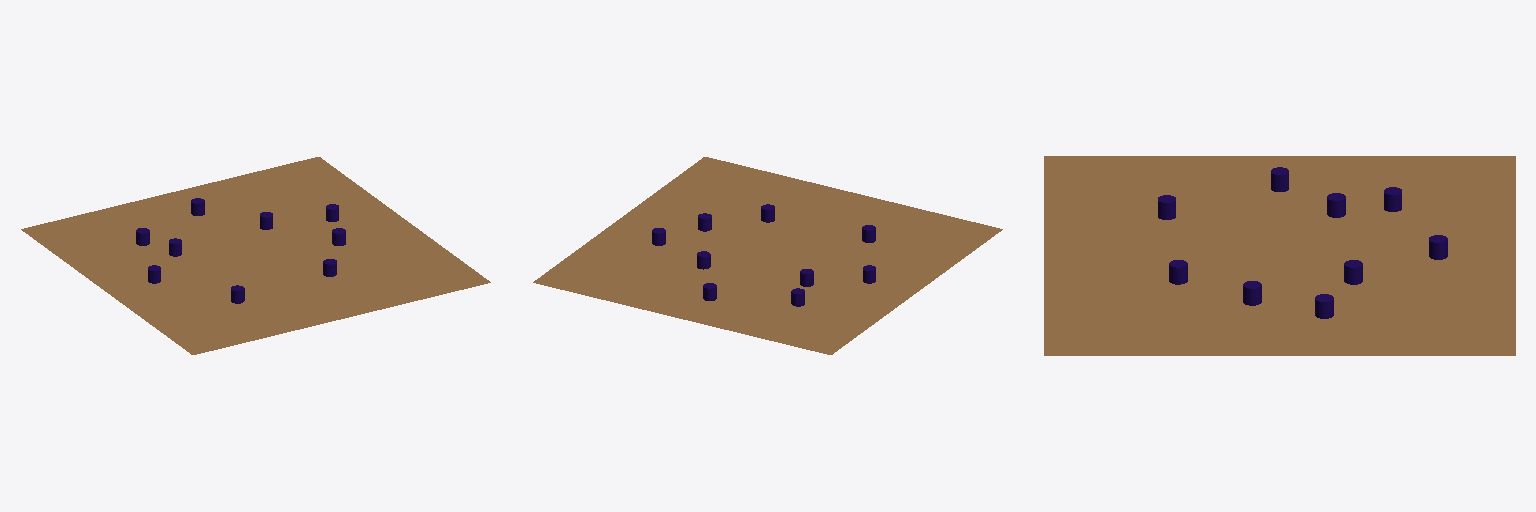
URDF robot description (Mesh):
<?xml version="1.0"?>
<robot name="Mesh">
  <link name="world">
		<visual>
			<origin xyz="0 0 0" rpy="0 0 0"/>
			<geometry>
				<mesh filename="package://gcop_ros_bullet/urdf/meshes/simple_obstacles.dae"/>
			</geometry>
		</visual>
	</link>
</robot>

--- What the picture shows (computed from the rendered views, not written in the file) ---
The picture shows the robot from 3 angles, left to right: view 1: azimuth 30°, elevation 25°; view 2: azimuth 150°, elevation 25°; view 3: azimuth 270°, elevation 25°; orthographic projection.
Robot: Mesh — 1 links, 0 joints (none); root link world; default pose: all joints at 0.
Links seen in each view (by area): view 1: world; view 2: world; view 3: world.
Link boxes in pixels (bbox=[...]): world: bbox=[21, 157, 490, 354]; world: bbox=[533, 157, 1002, 354]; world: bbox=[1044, 156, 1515, 355].
Bounding box of the posed robot: 25 × 25 × 1.17 m (x, y, z).
Meshes: 1 distinct files referenced, 1 mesh visuals loaded (1 Collada DAE).